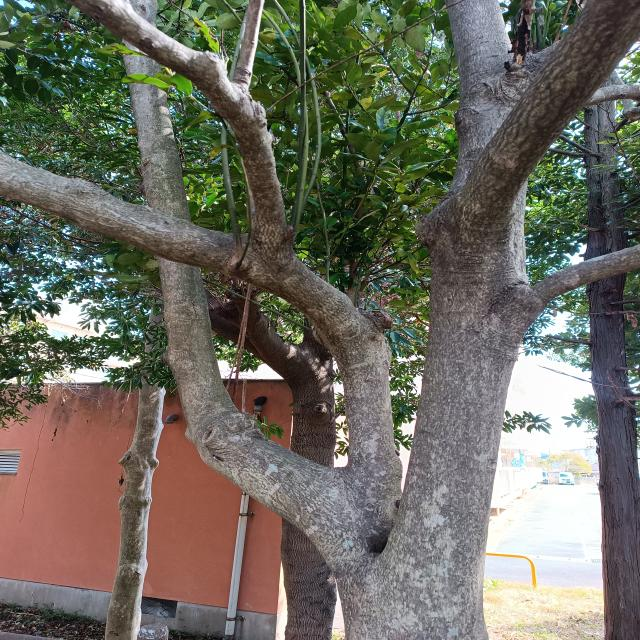Branch: (0, 144, 398, 483), (114, 0, 343, 535), (67, 0, 297, 248), (456, 0, 638, 230)
Twig: (534, 243, 640, 301), (234, 1, 261, 83), (587, 83, 639, 105)
